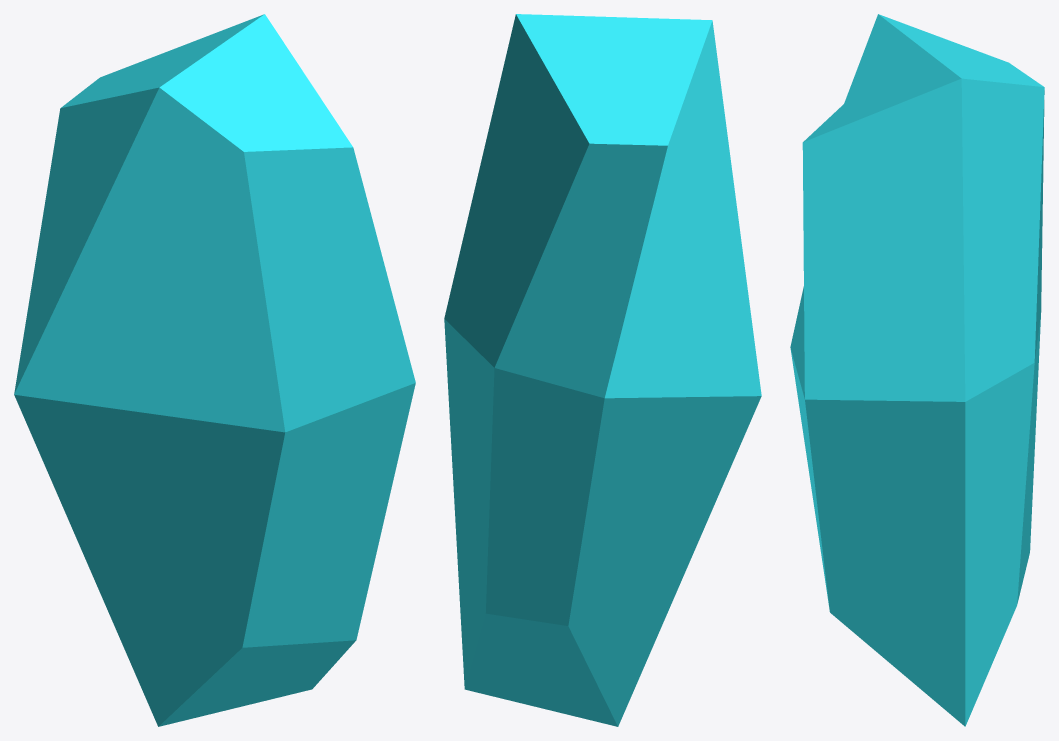
Rendered from iceStone.fbx.
3 views of the same model, side by side, from view 1: azimuth 30°, elevation 25°; view 2: azimuth 150°, elevation 25°; view 3: azimuth 270°, elevation 25° (orthographic). The views are drawn at different scales.
Parts seen in each view (by area): view 1: Cube; view 2: Cube; view 3: Cube.
Part boxes in pixels (bbox=[...]): Cube: bbox=[14, 14, 415, 726]; Cube: bbox=[444, 14, 761, 726]; Cube: bbox=[790, 14, 1044, 726].
Bounding box in the file's own units: 151 × 313 × 115.
